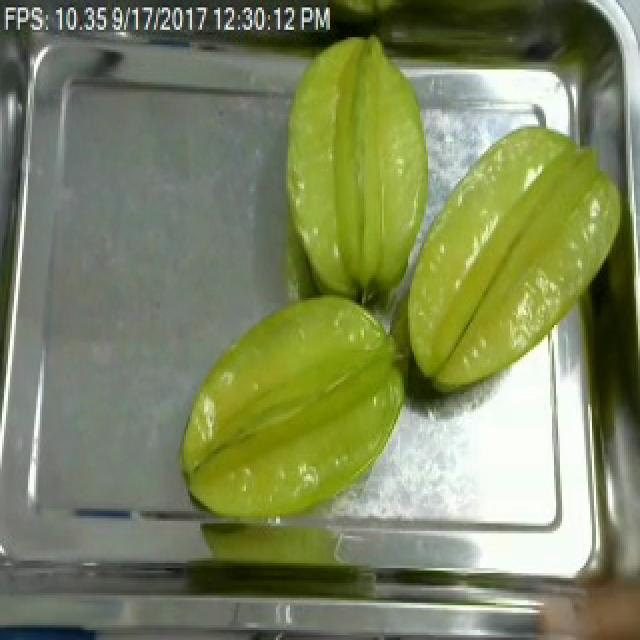fruit: (390, 109, 638, 404), (168, 286, 418, 534), (268, 25, 446, 312)
